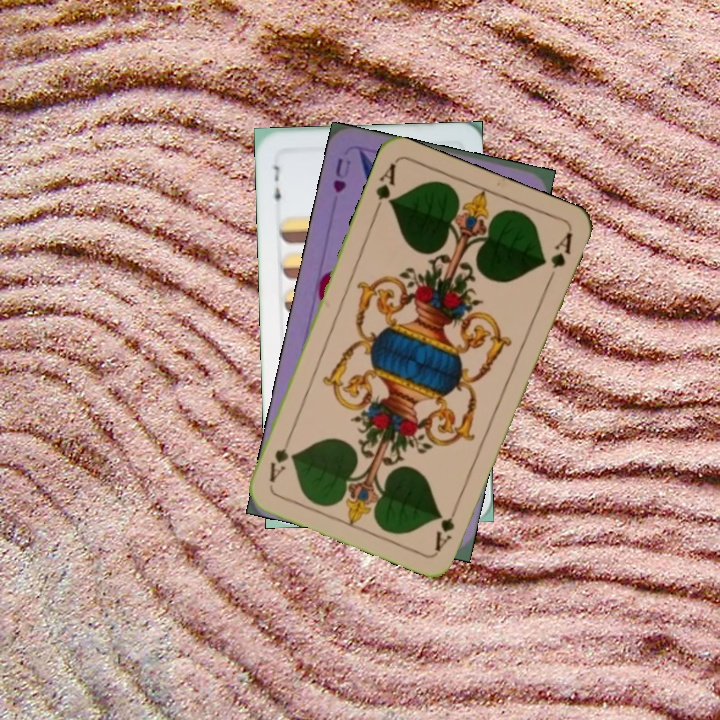E7: (269, 161, 284, 211)
GA: (430, 497, 462, 554), (370, 159, 399, 217)
HU: (329, 154, 353, 195)
